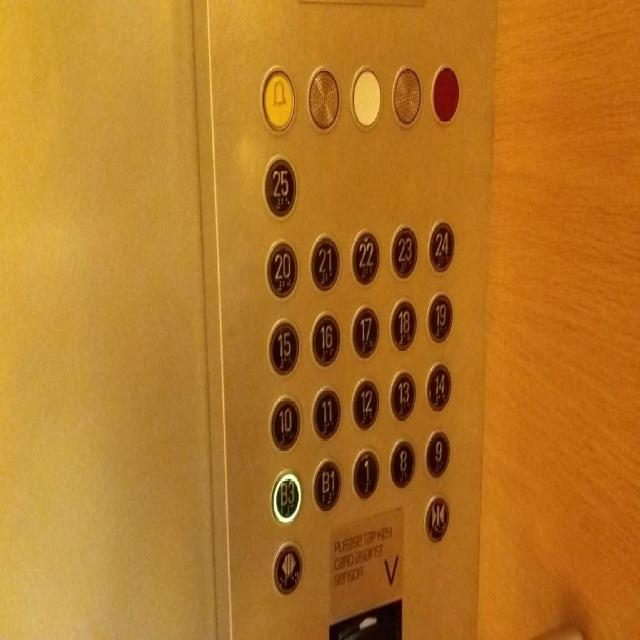1: (351, 445, 381, 499)
10: (268, 390, 302, 452)
11: (308, 381, 342, 443)
12: (348, 372, 381, 432)
13: (388, 366, 418, 422)
14: (424, 358, 452, 412)
15: (266, 314, 300, 376)
16: (309, 309, 341, 370)
17: (350, 301, 380, 361)
18: (388, 294, 418, 354)
19: (425, 288, 454, 344)
20: (264, 236, 300, 300)
21: (308, 230, 340, 293)
22: (349, 225, 382, 289)
23: (388, 221, 419, 282)
24: (426, 216, 456, 274)
25: (262, 149, 298, 219)
8: (387, 435, 417, 489)
9: (422, 425, 452, 479)
B1: (310, 456, 342, 514)
B3: (269, 466, 302, 526)
alarm: (258, 63, 298, 134)
close: (423, 494, 451, 544)
empty: (348, 63, 382, 130), (429, 64, 459, 124)
open: (270, 538, 304, 598)
speaker: (303, 60, 341, 134), (389, 60, 422, 130)
